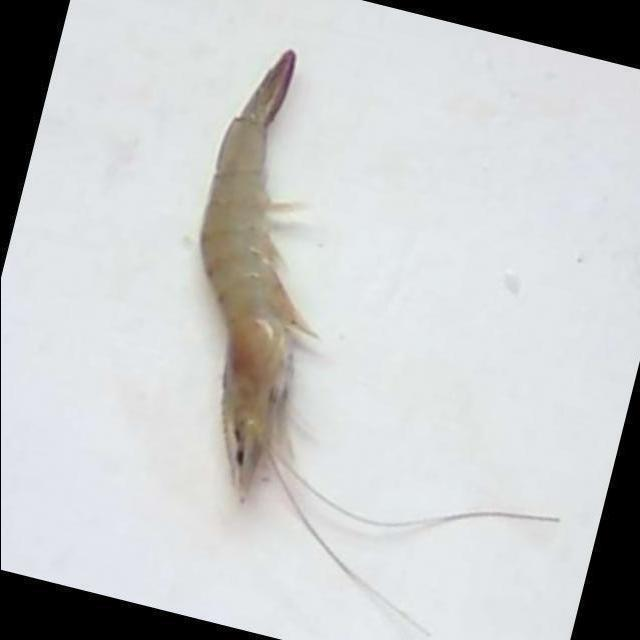shrimp: (200, 50, 314, 500)
